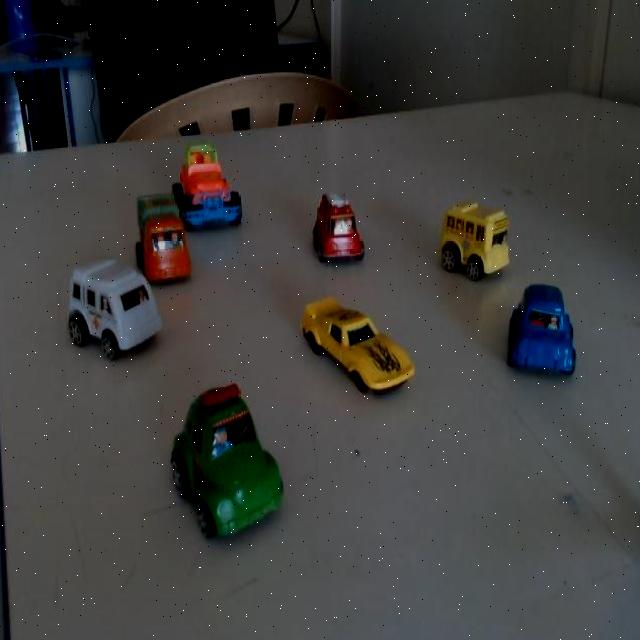car: (160, 386, 289, 540), (298, 292, 415, 401), (64, 246, 163, 370), (177, 134, 252, 230), (508, 284, 578, 377), (132, 183, 192, 290), (432, 202, 506, 288), (302, 184, 366, 275)
